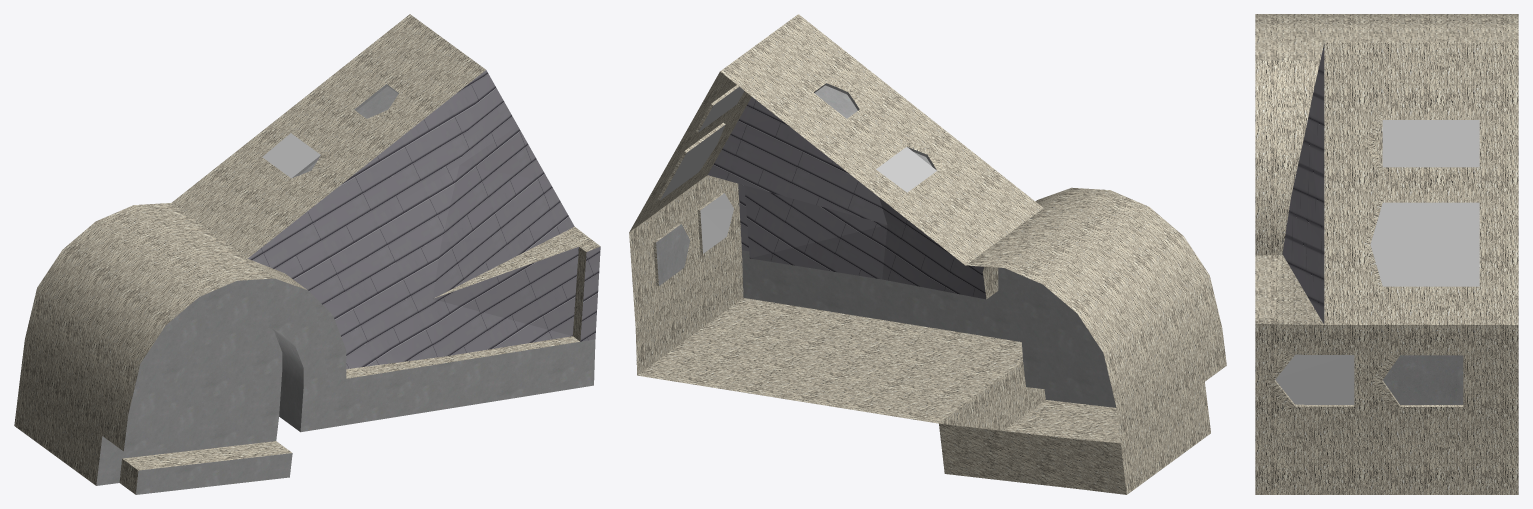
File: Tolli_4_2.obj
3 views of the same model, side by side, from view 1: azimuth 30°, elevation 25°; view 2: azimuth 150°, elevation 25°; view 3: azimuth 270°, elevation 25° (orthographic). The views are drawn at different scales.
Visible parts, largest first — view 1: Tolli_4_2; view 2: Tolli_4_2; view 3: Tolli_4_2.
Part boxes in pixels (x1,y1,x2,y2): Tolli_4_2: (14,14,600,494); Tolli_4_2: (629,14,1226,494); Tolli_4_2: (1255,14,1518,494).
Bounding box in the file's own units: 18.61 × 12.42 × 6.88.
